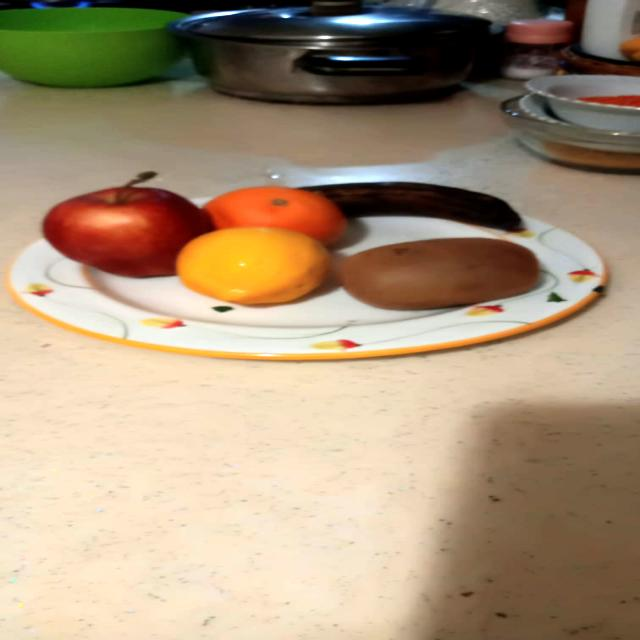lemon: (150, 214, 358, 317)
